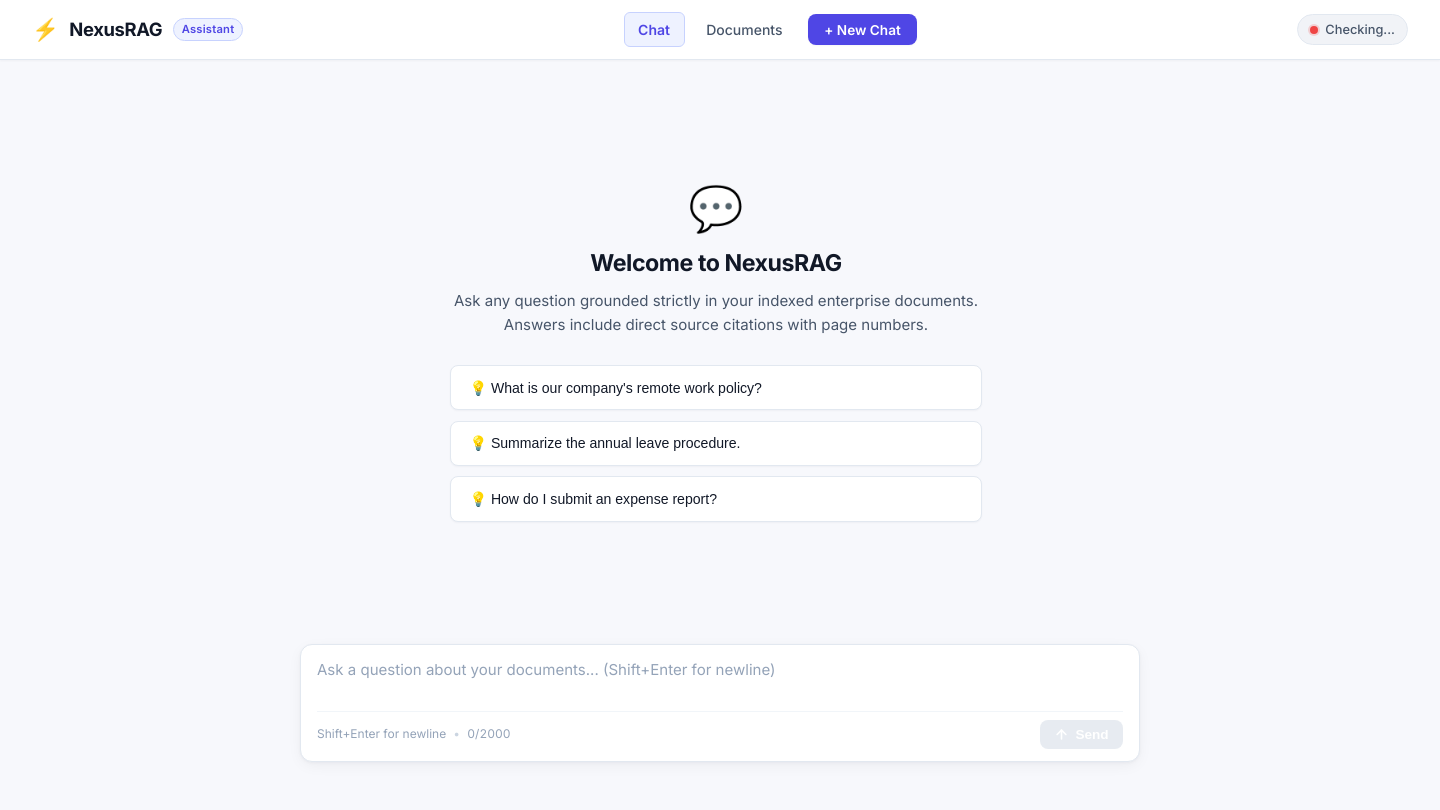
Test: Frontend Routing & Navigation Tests › 4. Navigates between Chat and Documents via Navbar links
The width and height of the screenshot is (1440, 810).
Check: the text box with test id "chat-input-textarea" is shown, box [317,659,1123,707]
// Click navigation link to Documents
Step 1. Click the link with test id "nav-documents-link" → [744, 30], box [706,21,782,38]
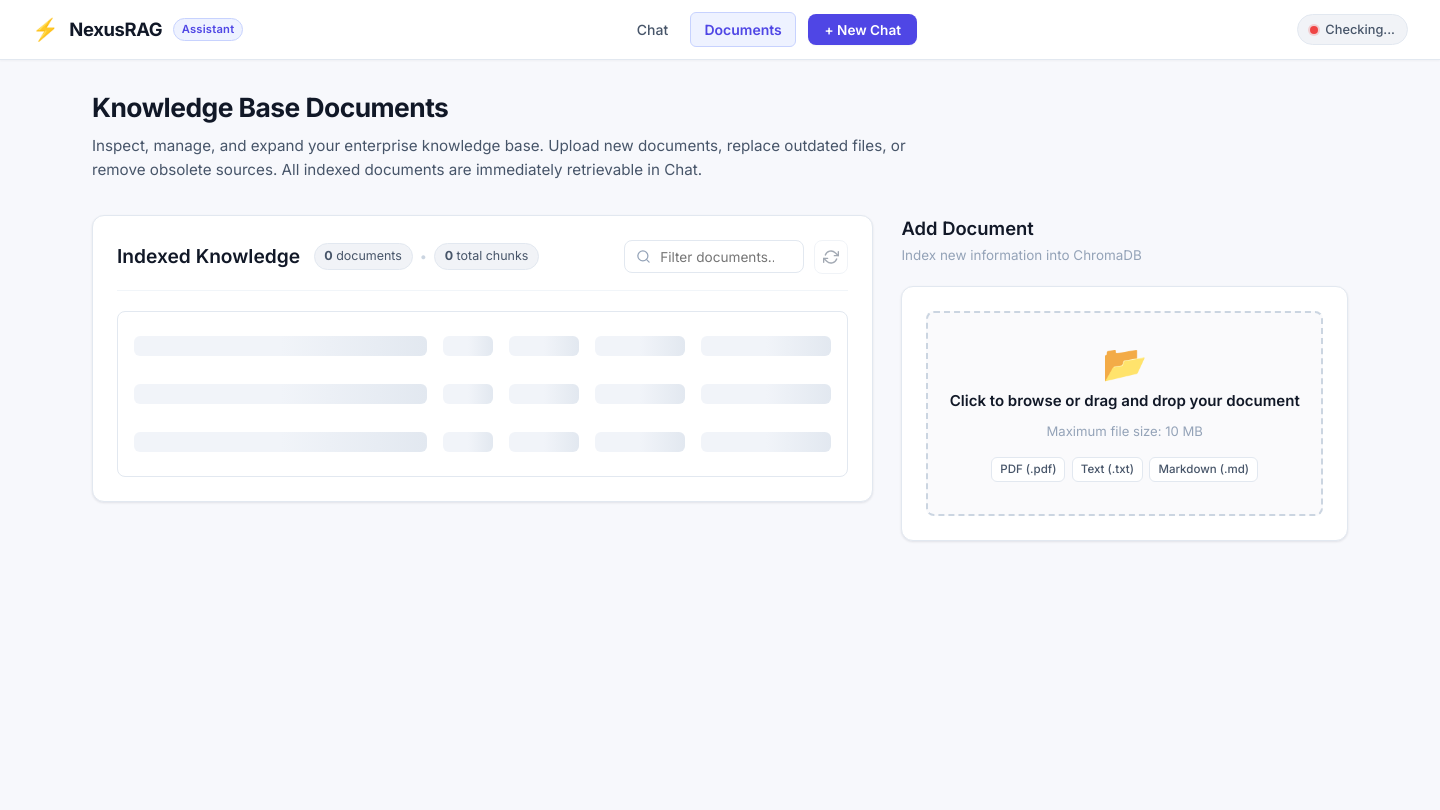
Check: the button with test id "drop-zone" is shown, box [926,311,1323,516]
// Click navigation link back to Chat
Step 2. Click the link with test id "nav-chat-link" → [652, 30], box [637,21,668,38]
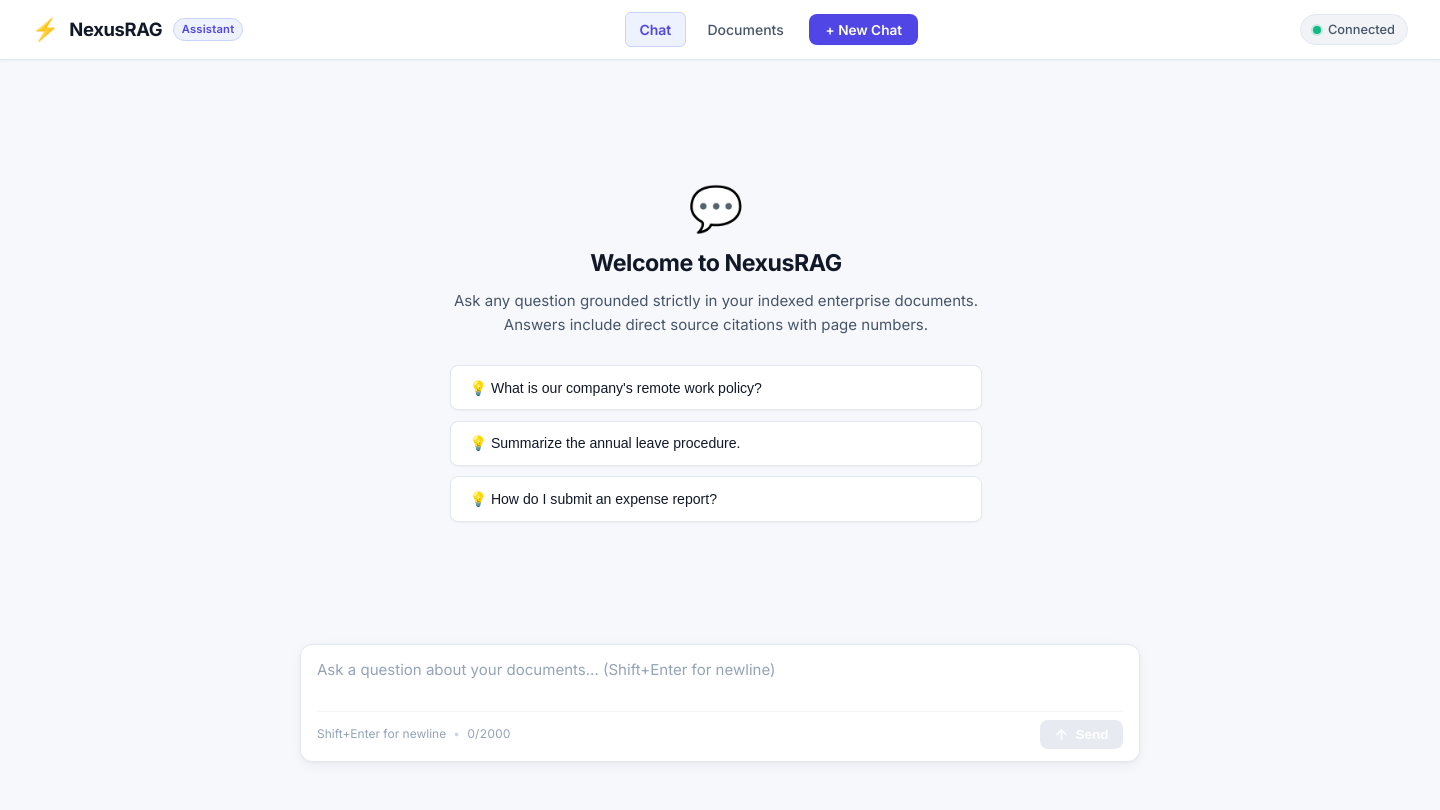
Check: the text box with test id "chat-input-textarea" is shown, box [317,659,1123,707]
